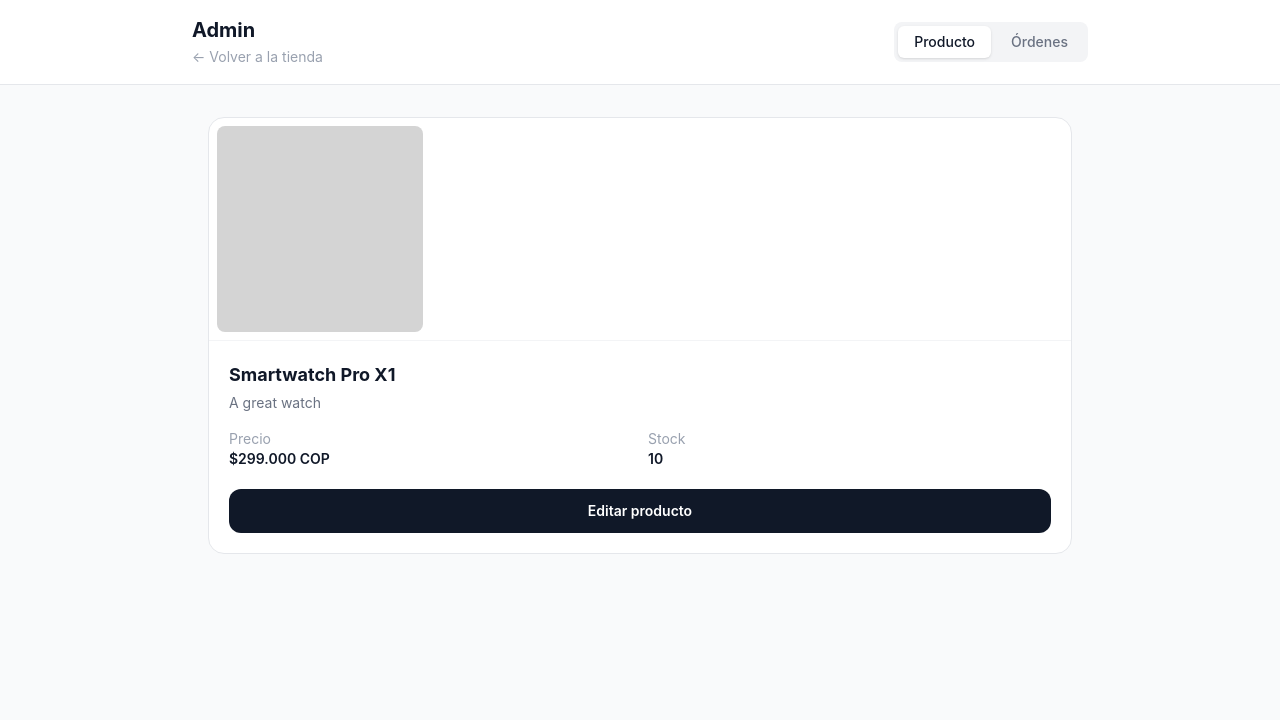
it: AdminPage › shows "Aún no hay órdenes" when ordenes tab has no transactions
Click the button "Órdenes" at (1040, 42), box [995,26,1084,58]
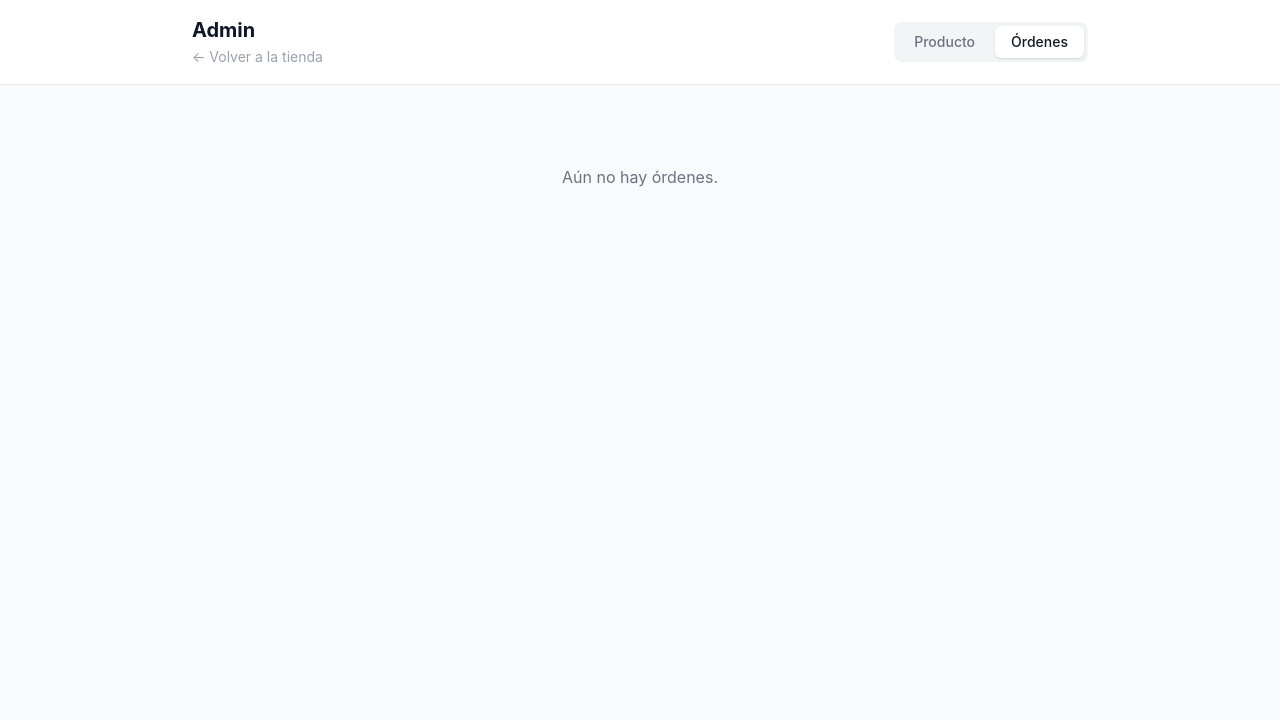
Expected: the text "Aún no hay órdenes." is shown, [562,167,718,187]
